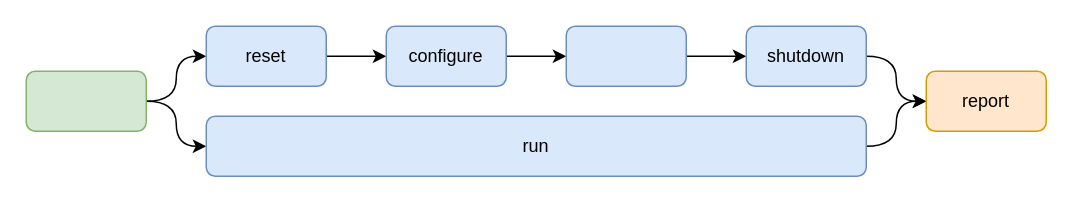
This 1073x203 diagram has some shape labels left out. Each missing label, with the centre of its shape:
"constructors" belongs at point (85, 100).
"main" belongs at point (625, 55).
